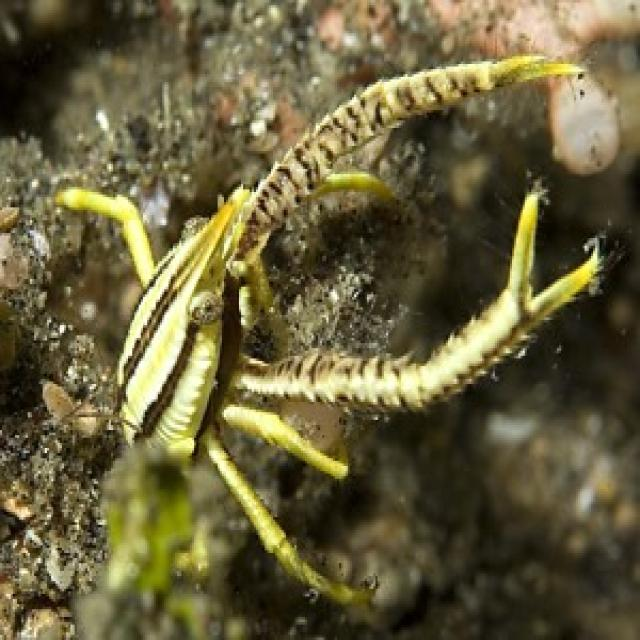lobsters: (23, 19, 613, 586)
